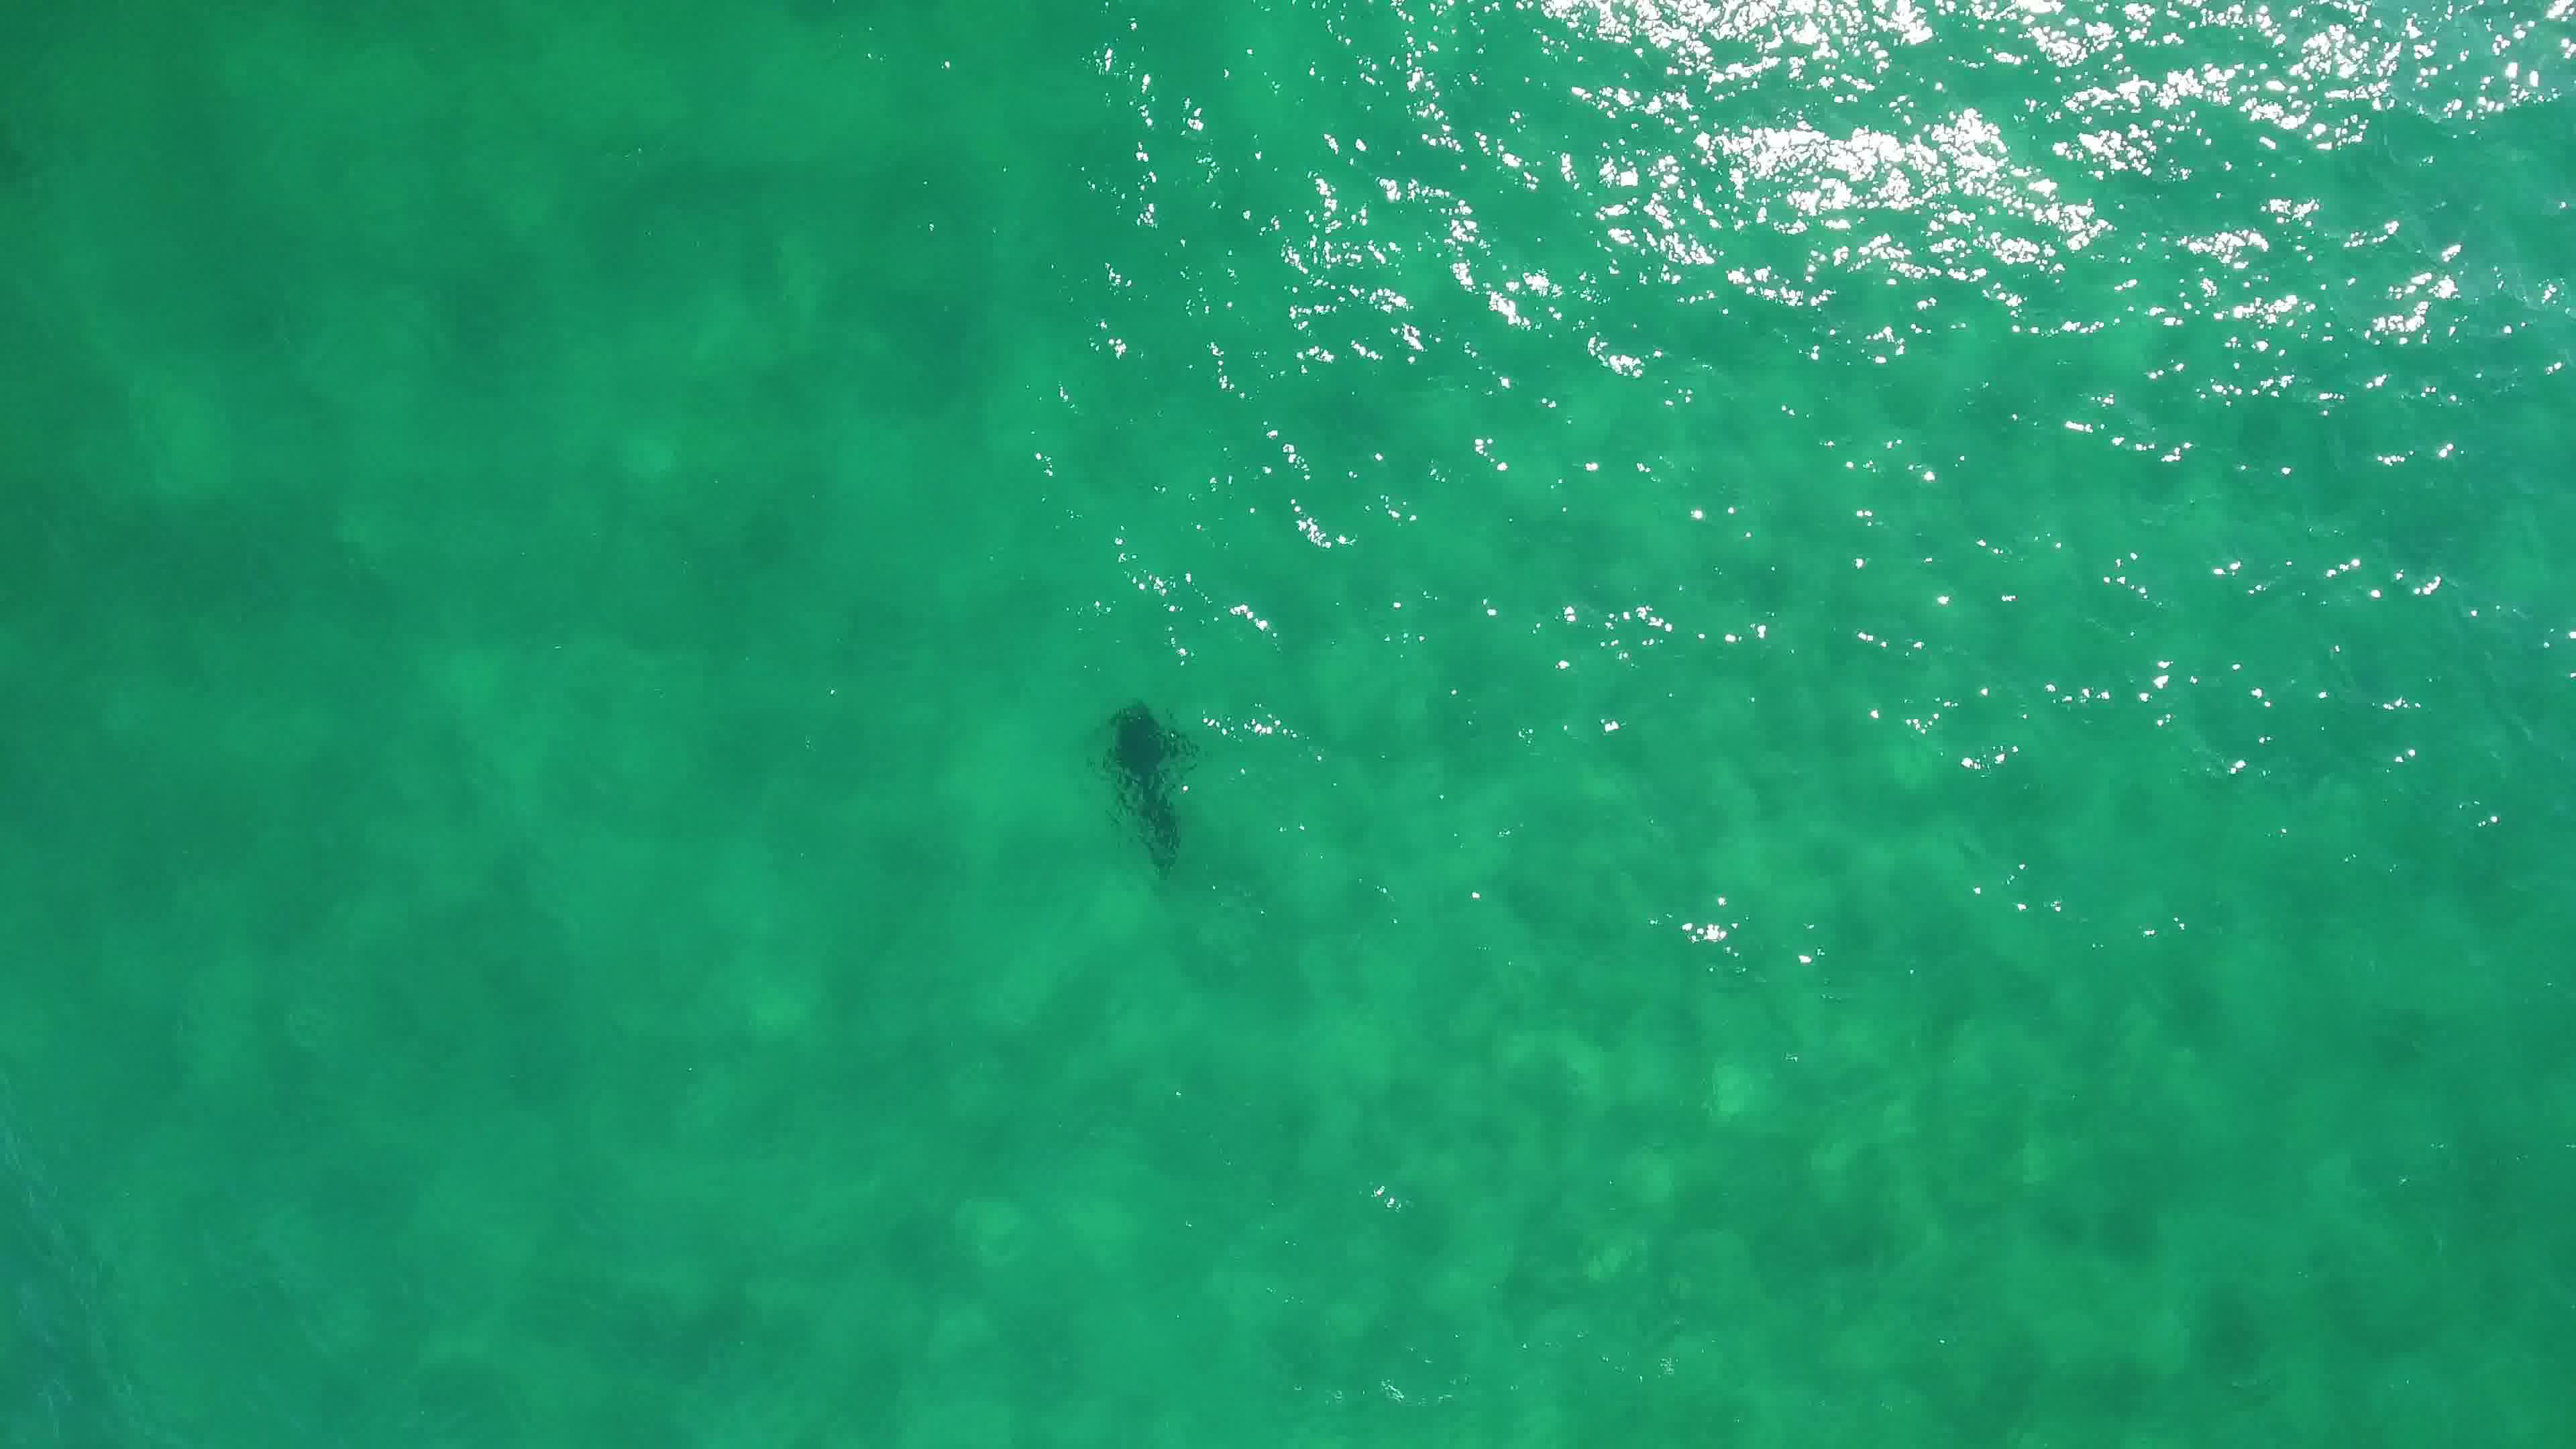shark: (1092, 697, 1191, 878)
